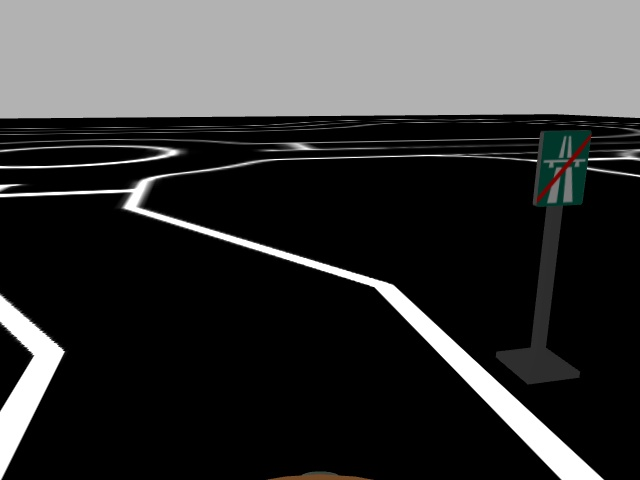leave_highway: (530, 128, 594, 209)
